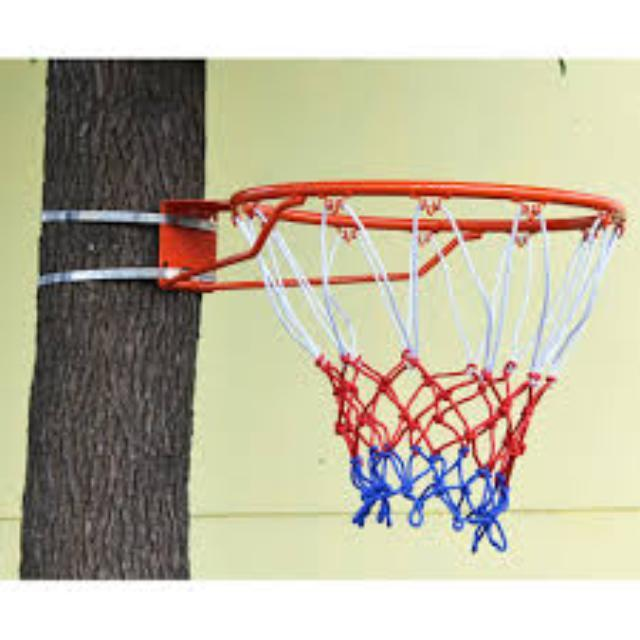rim: (234, 179, 626, 545)
